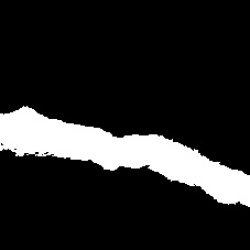crack: (1, 106, 249, 208)
